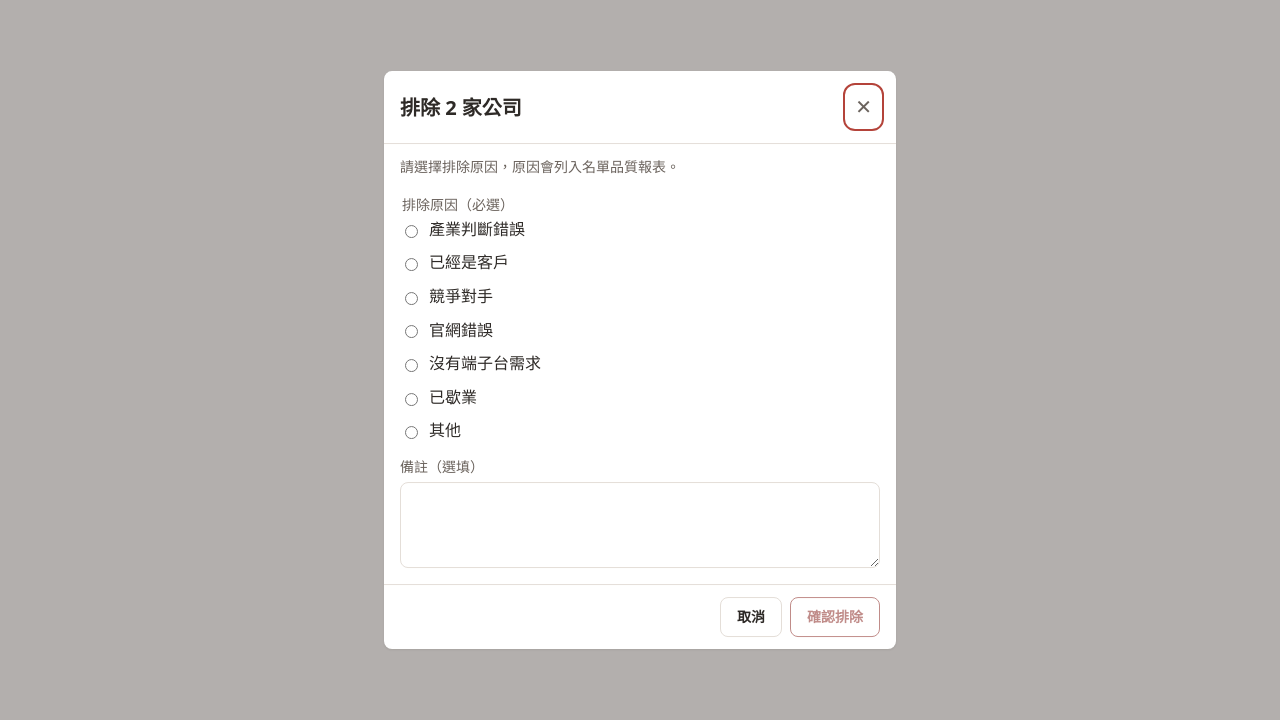
Test case: F-REC-3 批次排除要選原因 › test_f_rec_3_reject_requires_reason：沒選原因不能送出，選了才送
Later steps or results of the test are not shown.
Check: the button "確認排除" is disabled, box [790,597,880,637]
Click the radio button labelled "沒有端子台需求" at (412, 366), box [405,359,418,372]
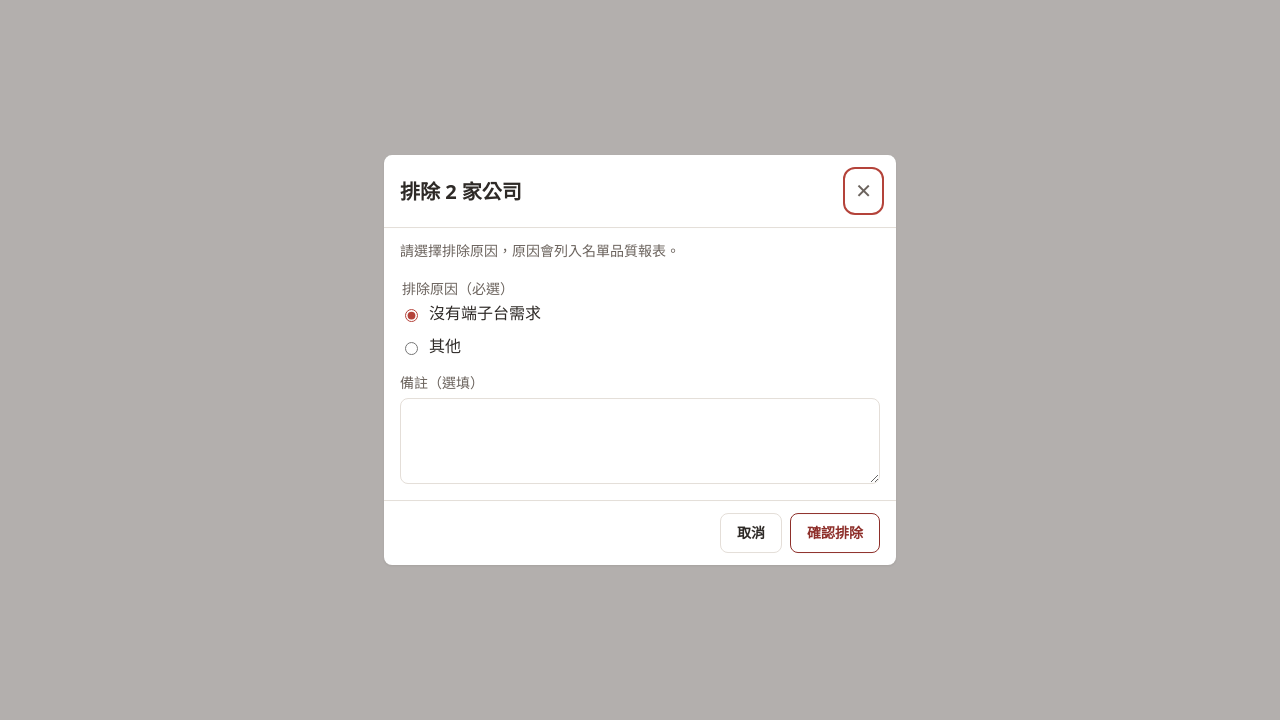
Check: the button "確認排除" is enabled, box [790,513,880,553]
